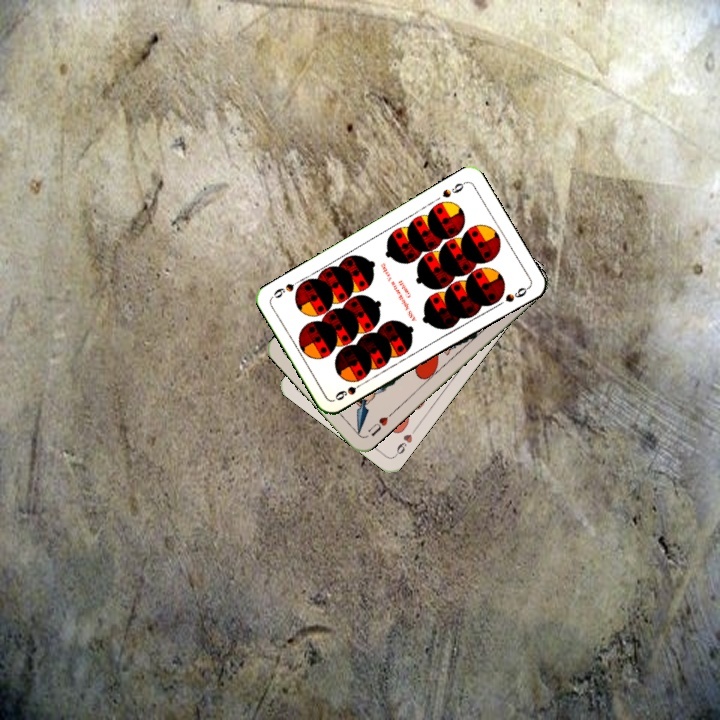H9: (390, 424, 419, 459)
HU: (364, 408, 395, 439)
S9: (331, 378, 368, 403), (438, 178, 469, 200)
